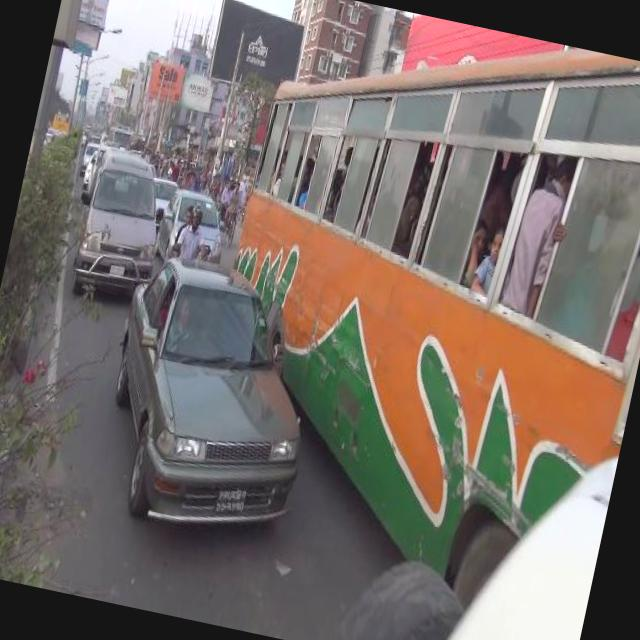bus: (165, 0, 640, 640), (104, 121, 135, 149), (48, 106, 72, 134)
car: (82, 244, 340, 550), (154, 182, 234, 270), (142, 174, 182, 228), (77, 136, 96, 174)
motorcycle: (169, 200, 216, 278), (210, 176, 247, 247), (177, 160, 206, 194), (202, 162, 224, 202)
truck: (63, 142, 176, 310)
